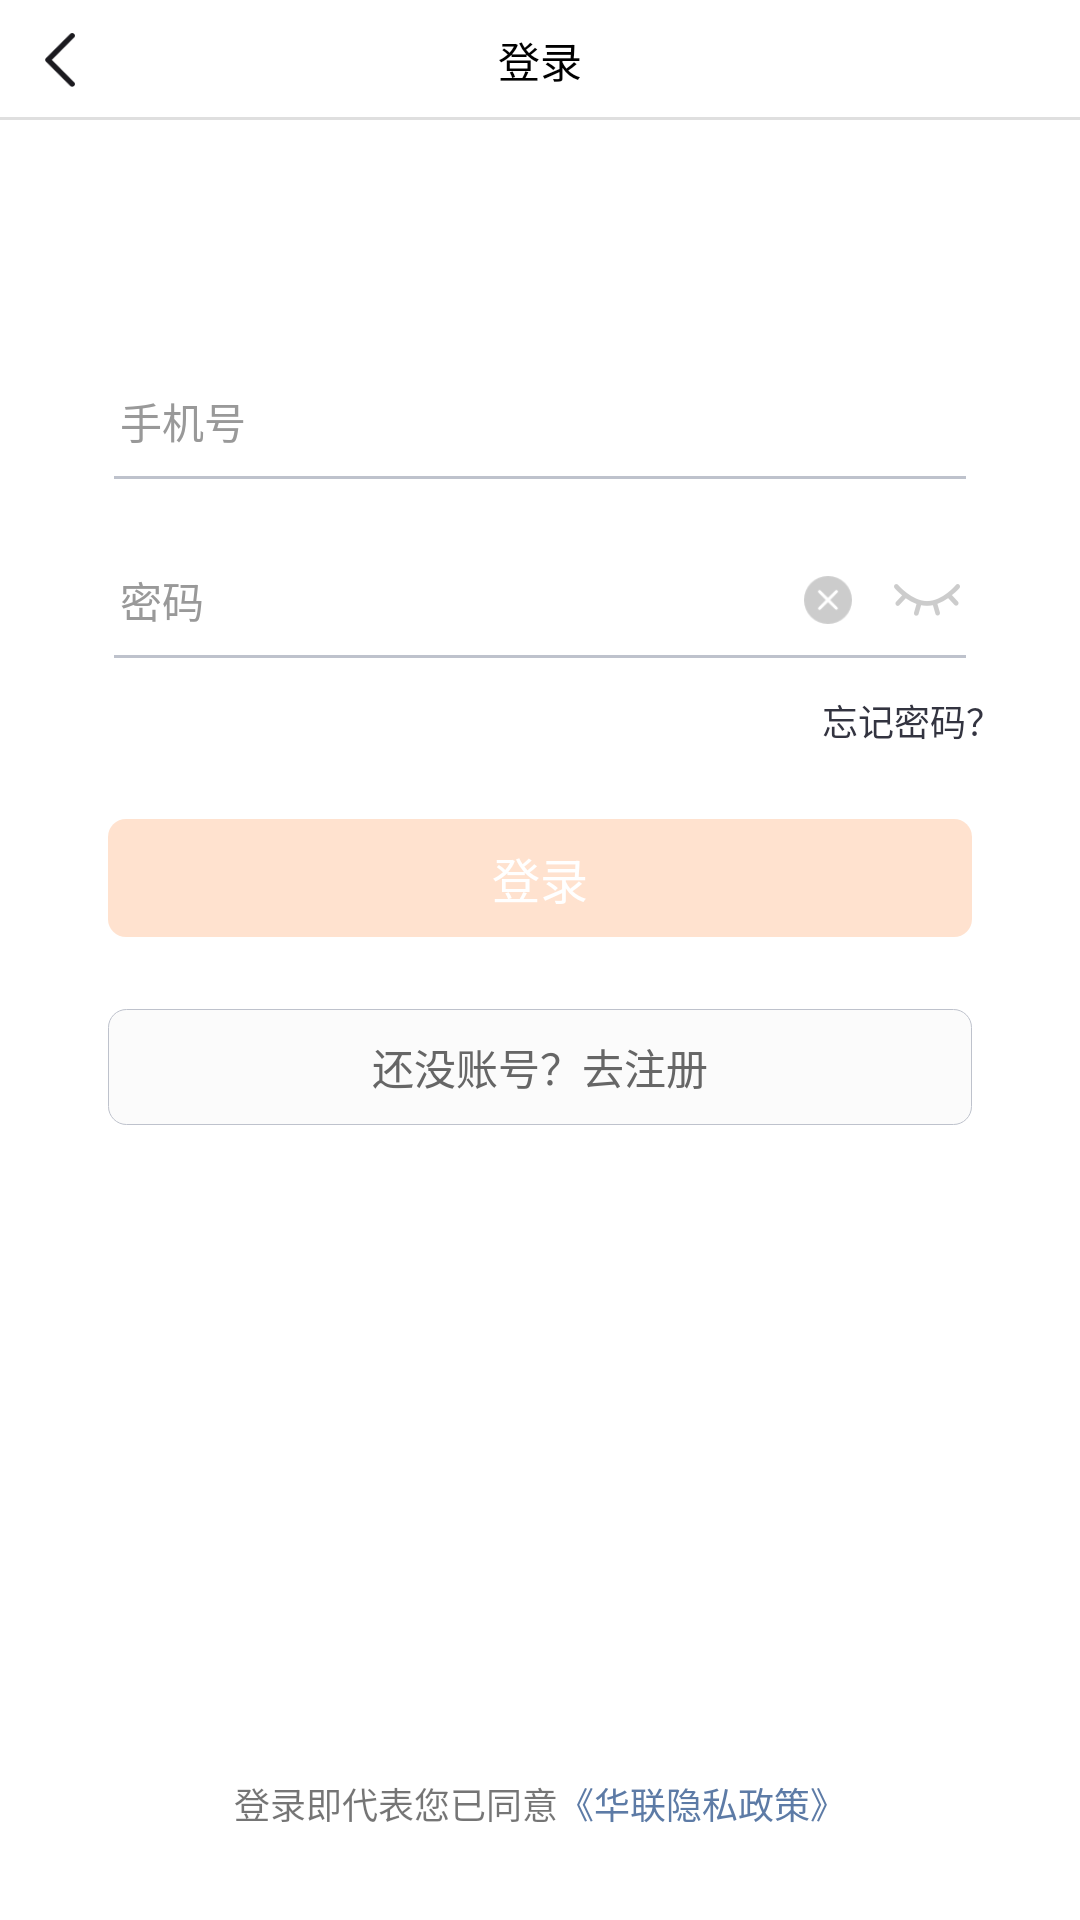

Named icons in this screenshot (1080px×1920px) and their centers, [x,y]:
biyan: [927,600]
lift: [60,60]
login colse: [828,600]
